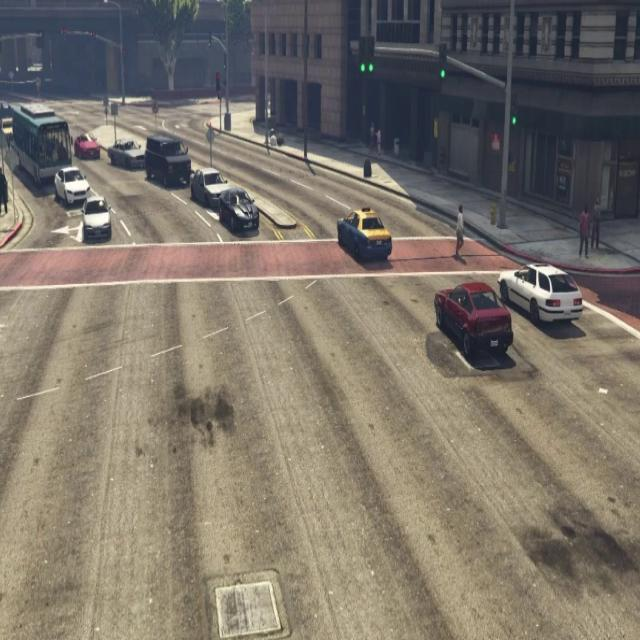Green-Signal: (356, 29, 378, 90), (434, 32, 452, 92), (507, 82, 522, 136)
